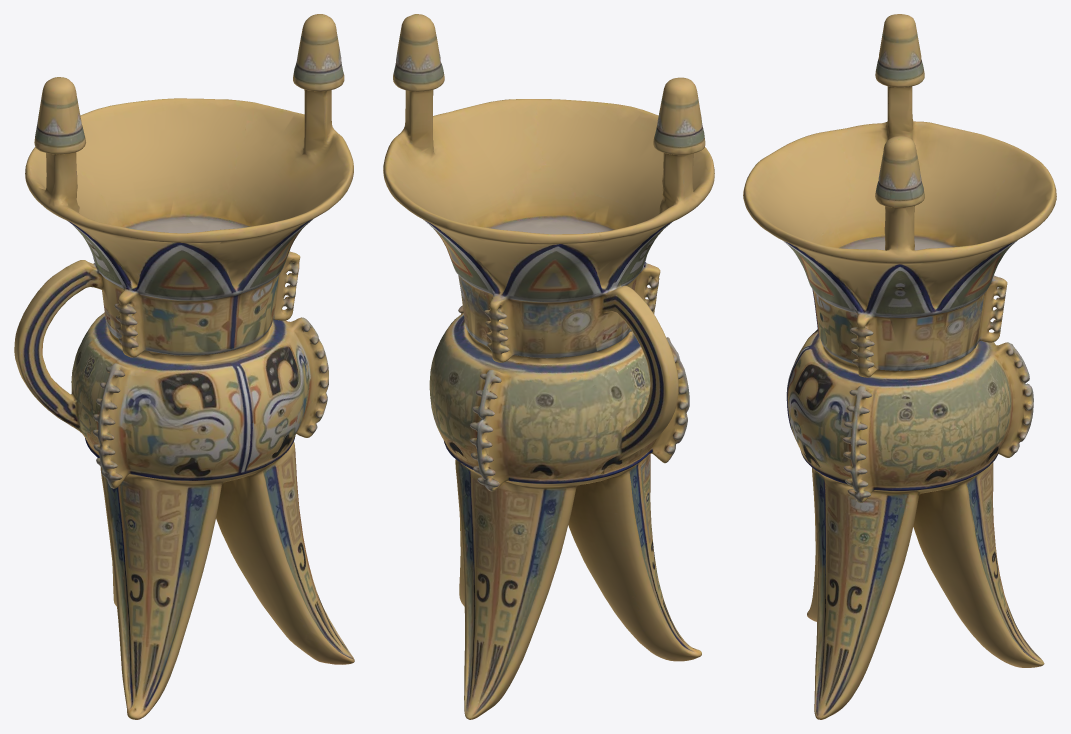
The model's file is 掐丝珐琅兽面纹出戟斝.glb.
3 renders of one model, left to right at view 1: azimuth 30°, elevation 25°; view 2: azimuth 150°, elevation 25°; view 3: azimuth 270°, elevation 25°, orthographic. The views are drawn at different scales.
Visible parts, largest first — view 1: tripo_node_c1d89e1b; view 2: tripo_node_c1d89e1b; view 3: tripo_node_c1d89e1b.
Part boxes in pixels (bbox=[...]): tripo_node_c1d89e1b: bbox=[14, 14, 354, 719]; tripo_node_c1d89e1b: bbox=[383, 14, 714, 719]; tripo_node_c1d89e1b: bbox=[743, 14, 1056, 719].
Size of the model in its own units: 50.49 by 97.91 by 47.25.
1 material, 1 textured.
